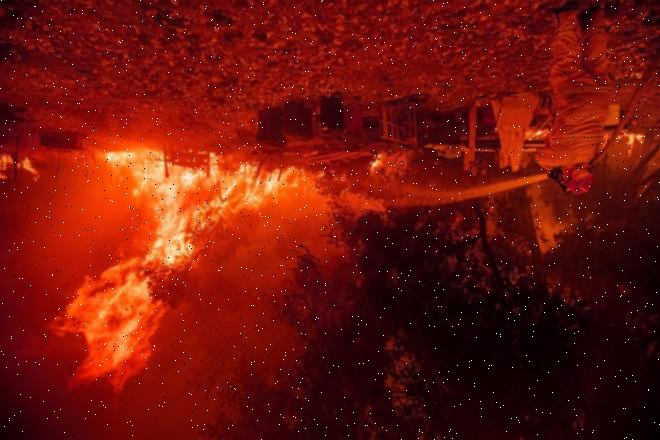fire: (48, 130, 312, 416)
